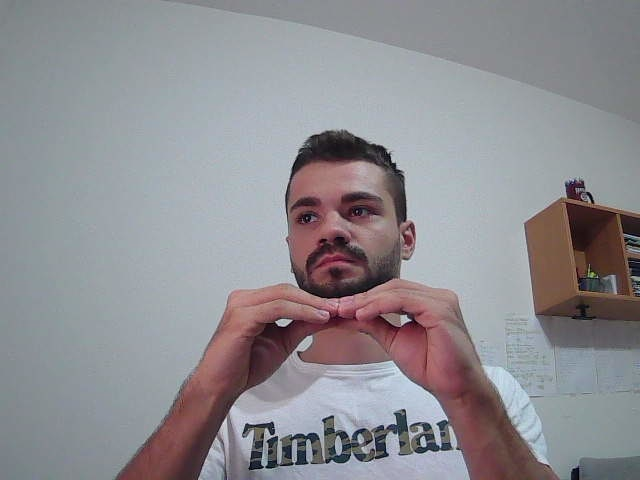b: (171, 266, 507, 404)
